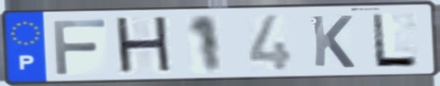1: (185, 13, 225, 76)
4: (245, 13, 295, 73)
F: (50, 17, 110, 77)
H: (111, 14, 176, 78)
K: (308, 14, 357, 70)
L: (369, 12, 422, 69)
